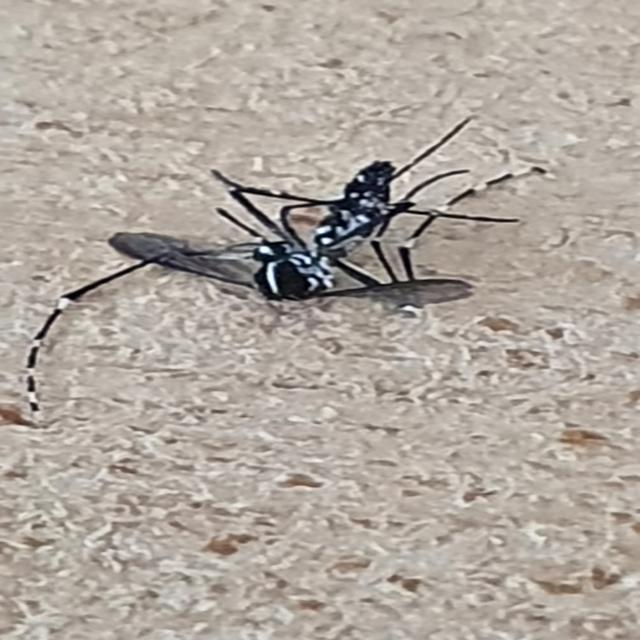albopictus: (32, 110, 568, 357)
